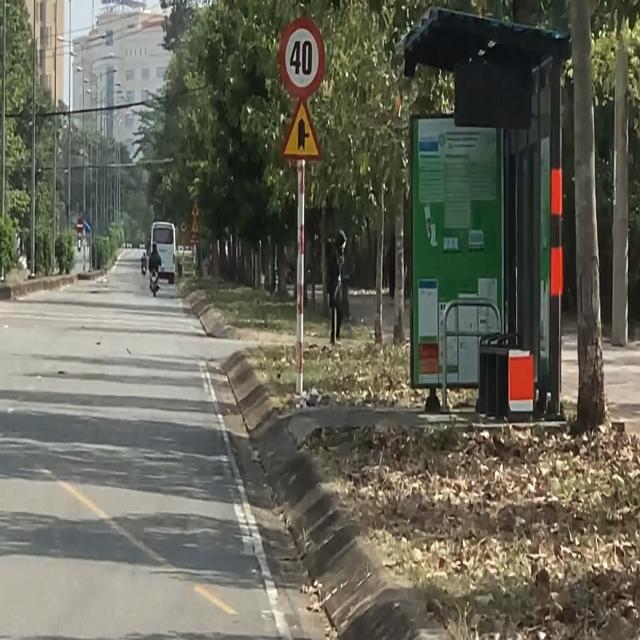Cam nguoc chieu: (76, 217, 84, 233)
Giao voi duong khong uu tien: (280, 92, 324, 164)
Hieu lenh: (84, 216, 92, 234)
Toc do toi da: (278, 15, 326, 104)
